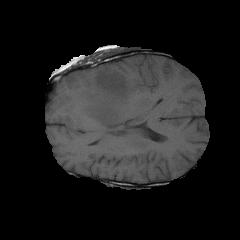glioma: (65, 66, 134, 136)
